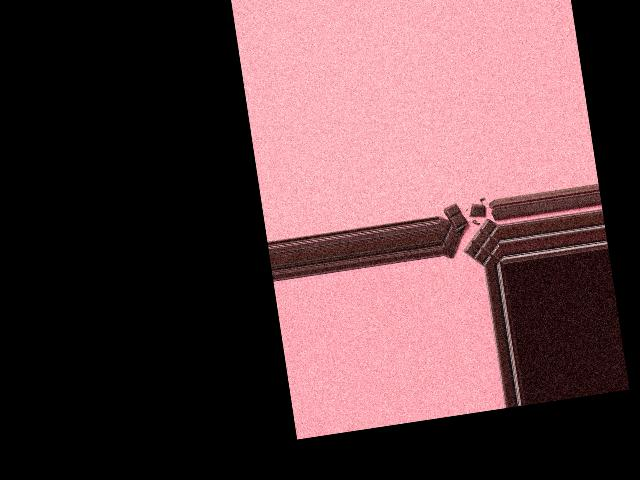chocolate: (440, 201, 503, 272)
